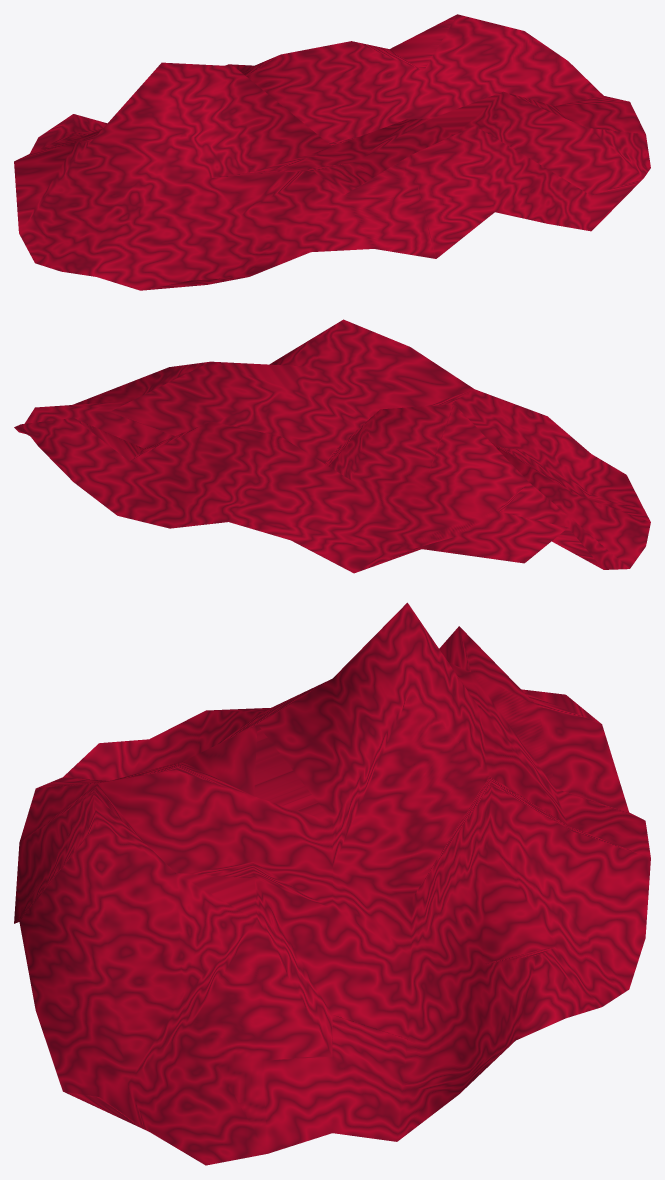
The model's file is SMALL PILLAR ASSET 1.fbx.
The picture shows the model from 3 angles, top to bottom: view 1: azimuth 30°, elevation 25°; view 2: azimuth 150°, elevation 25°; view 3: azimuth 270°, elevation 25°; orthographic projection. The views are drawn at different scales.
Parts seen in each view (by area): view 1: background mountain; view 2: background mountain; view 3: background mountain.
Part boxes in pixels (x1,y1,x2,y2): background mountain: [14, 14, 650, 290]; background mountain: [14, 319, 650, 573]; background mountain: [14, 602, 650, 1165].
Size of the model in its own units: 788 by 208 by 477.
